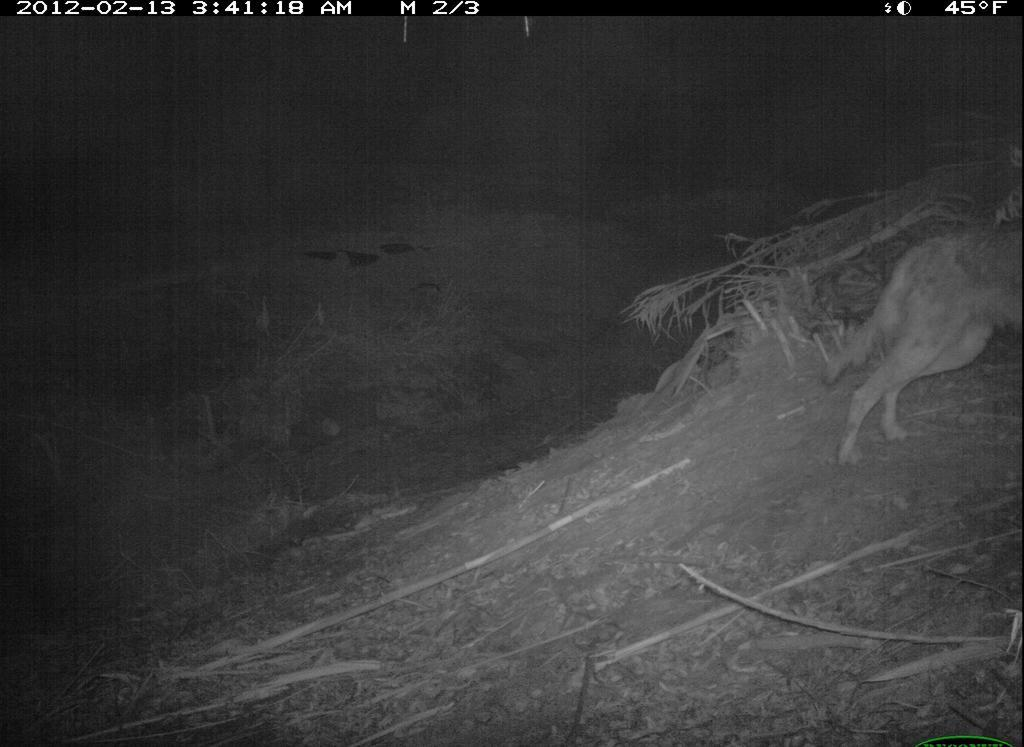coyote: (812, 205, 1021, 477)
